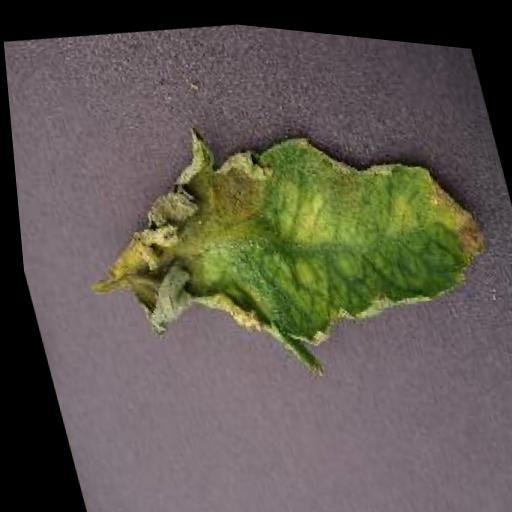Late Blight: (75, 68, 512, 416)
